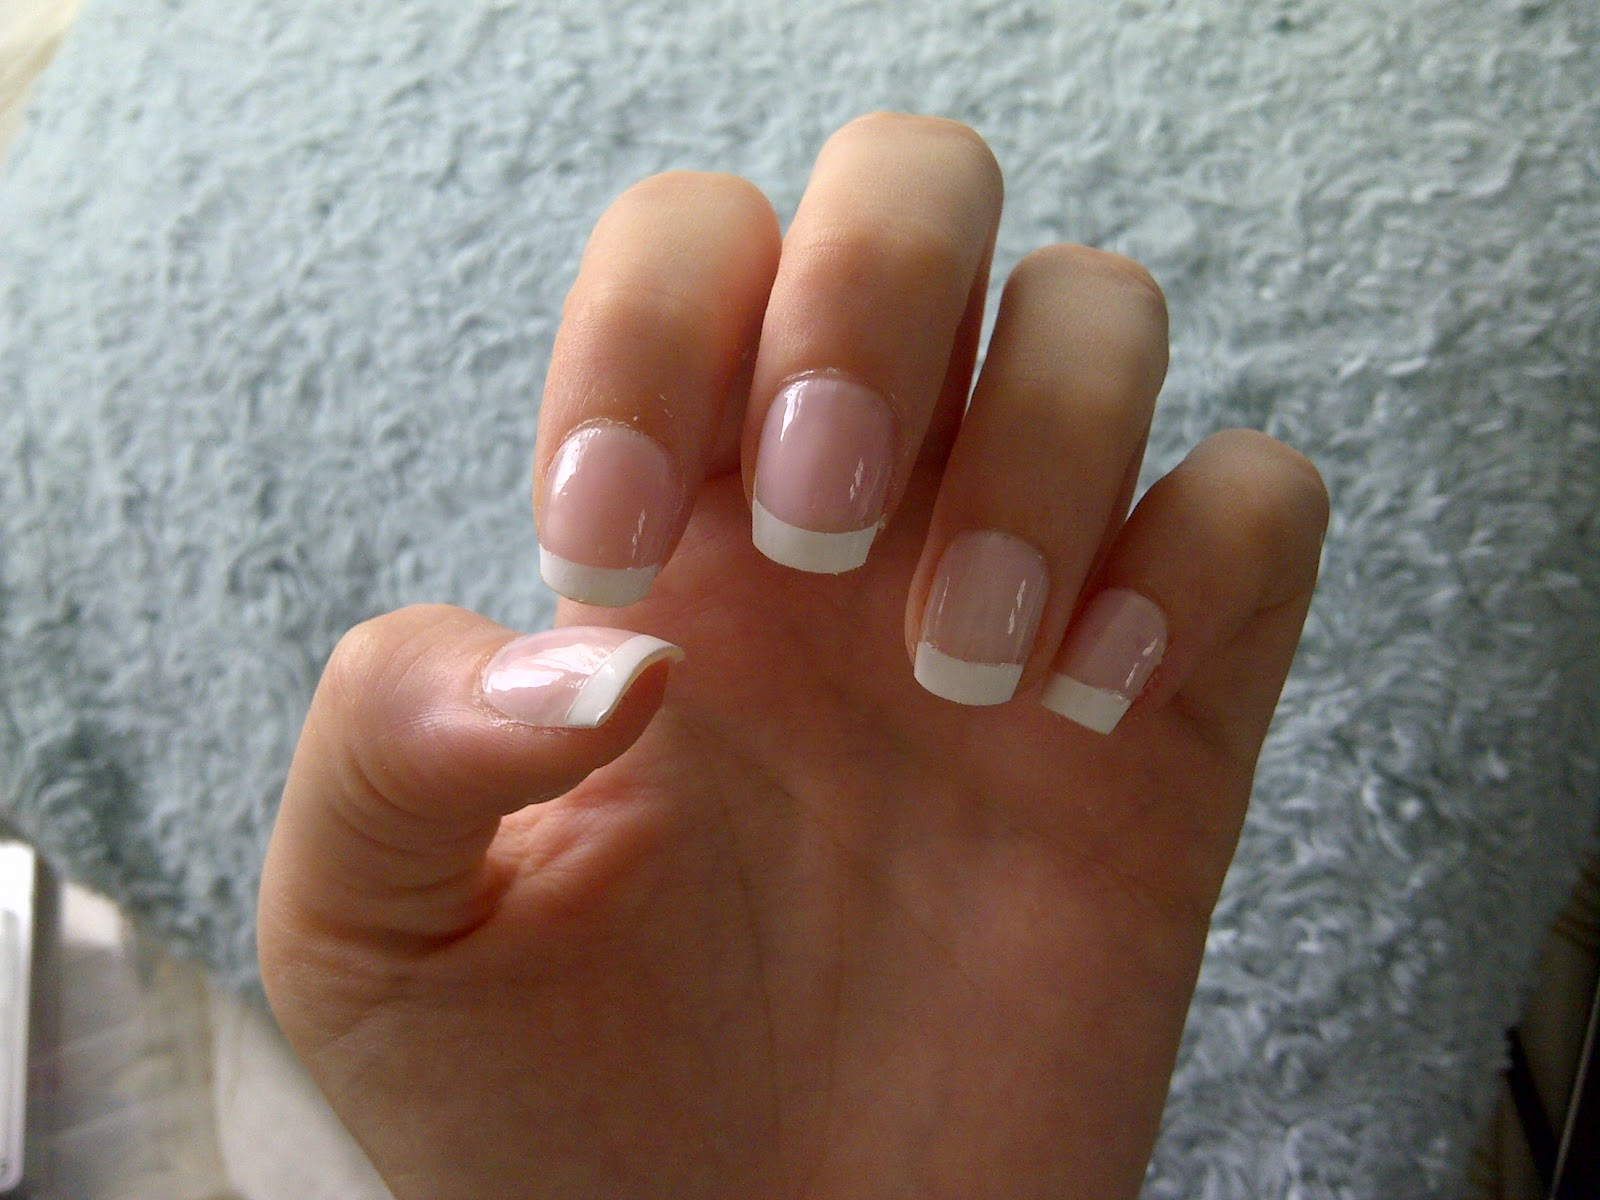nails: (742, 364, 894, 585), (905, 516, 1054, 713), (530, 415, 674, 609), (464, 620, 689, 734), (1036, 580, 1180, 746)
